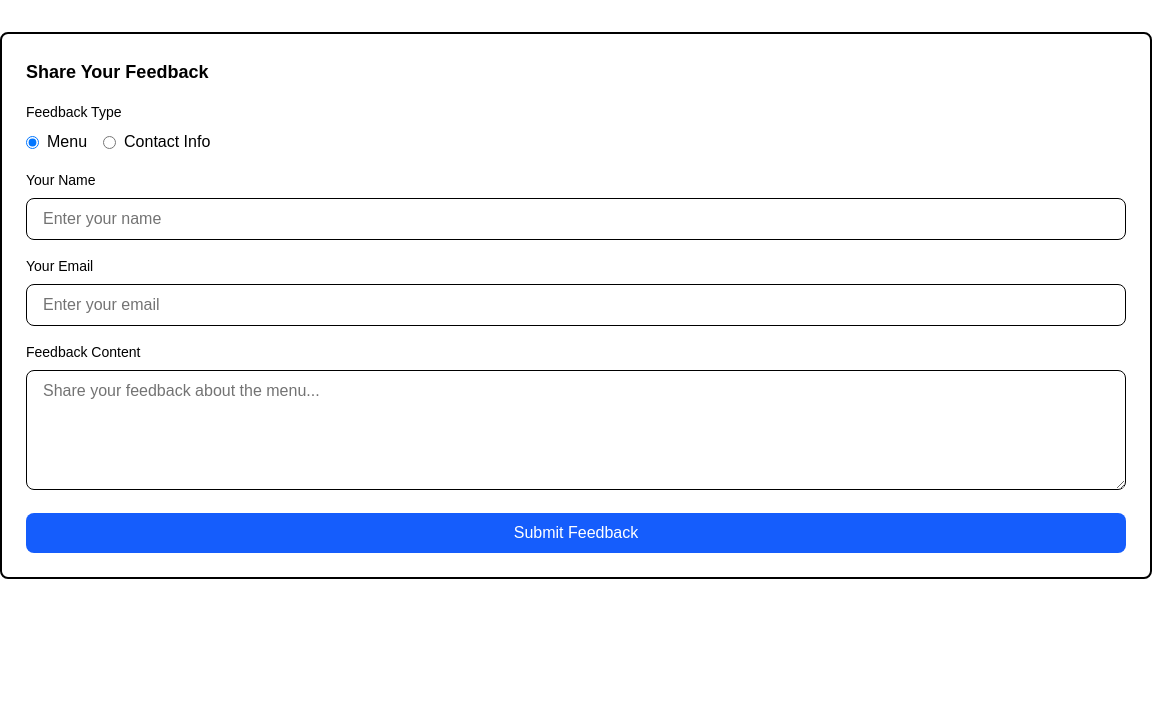
Scenario: FeedbackForm Component › should show error for empty name
Type "john@example.com" into the field labelled "Your Email" at (576, 305), box [26, 284, 1126, 326]
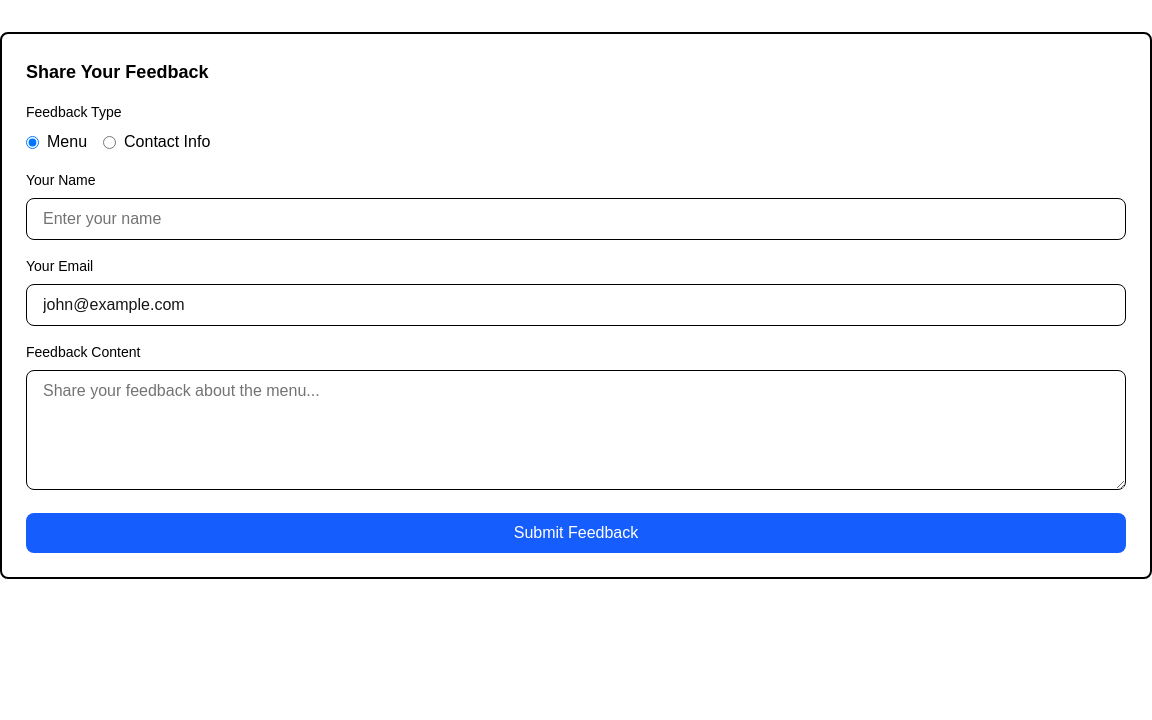
Type "Great menu!" into the text box labelled "Feedback Content" at (576, 430), box [26, 370, 1126, 490]
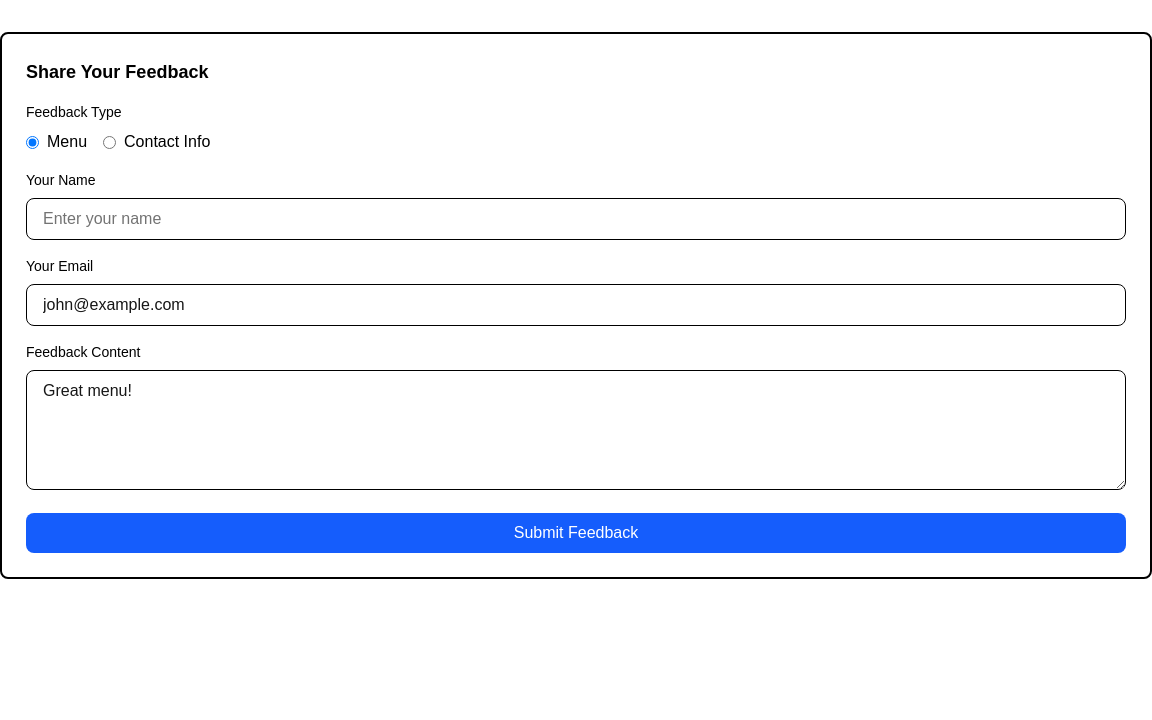
Click the button "Submit Feedback" at (576, 533), box [26, 513, 1126, 553]
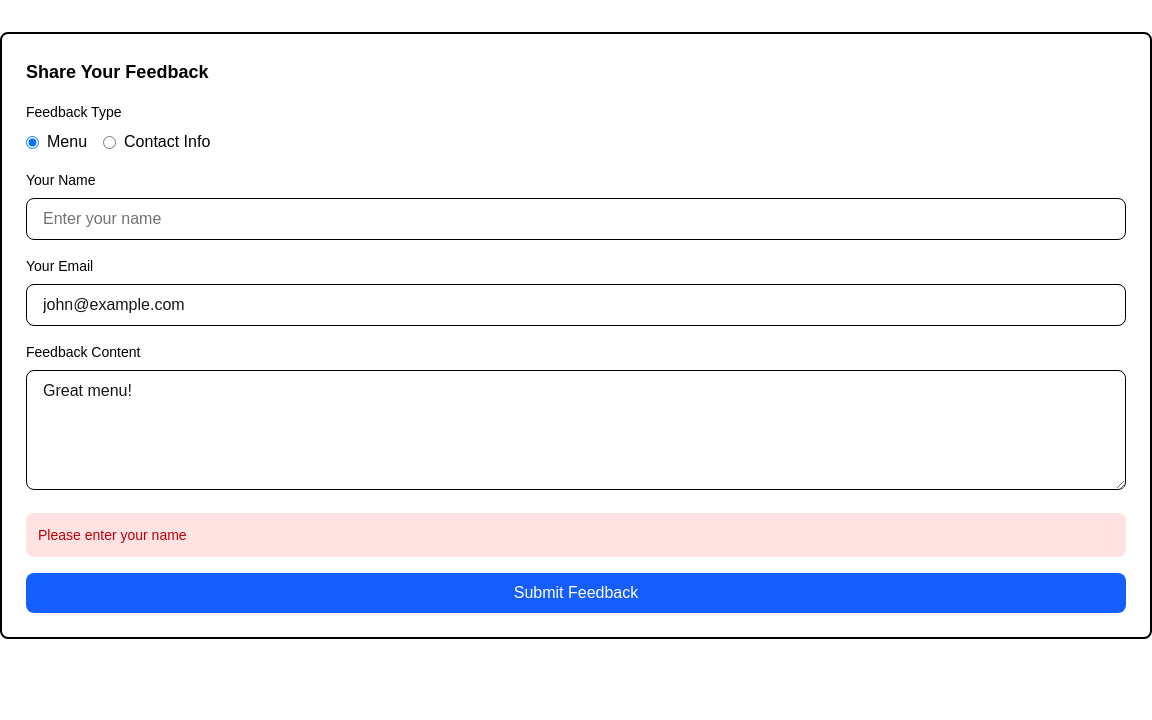
Result: the text "Please enter your name" is shown at [26, 513, 1126, 557]
